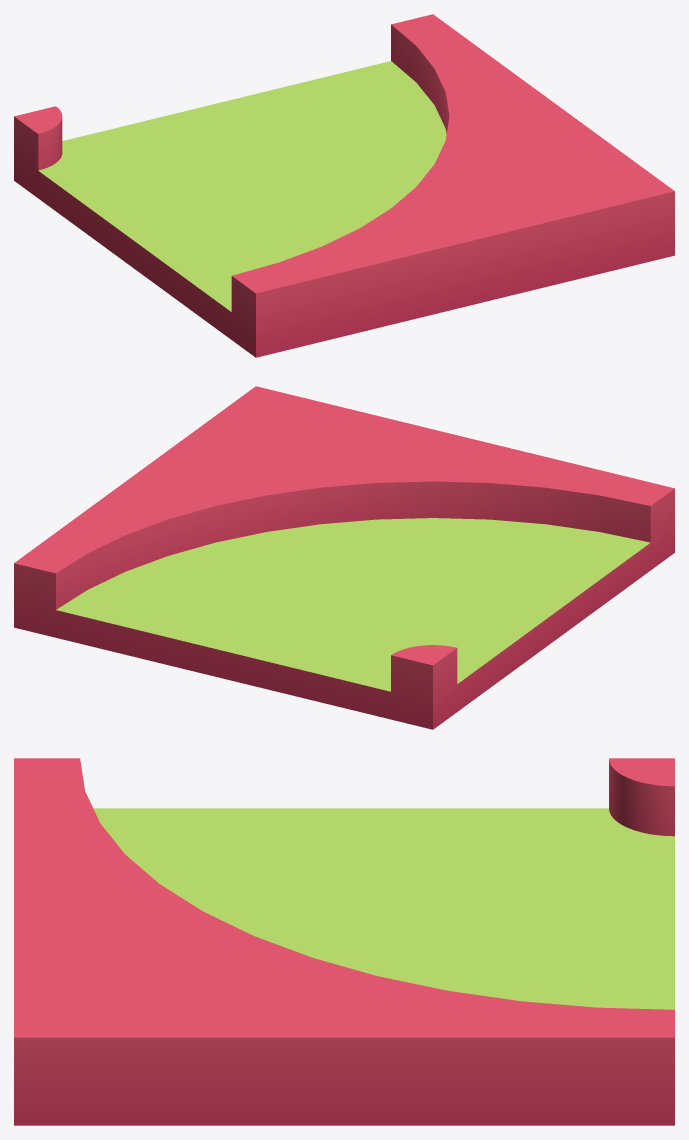
File: round-corner-b.fbx
3 views of the same model, one above another, from view 1: azimuth 30°, elevation 25°; view 2: azimuth 150°, elevation 25°; view 3: azimuth 270°, elevation 25° (orthographic). The views are drawn at different scales.
Parts seen in each view (by area): view 1: round_corner_b; view 2: round_corner_b; view 3: round_corner_b.
Part boxes in pixels (box(x1,y1,x2,y2)): round_corner_b: box(14, 14, 674, 357); round_corner_b: box(14, 386, 674, 729); round_corner_b: box(14, 758, 674, 1125).
Size of the model in its own units: 99.99 by 14.67 by 99.99.
Materials: 1 (1 with a texture image).
